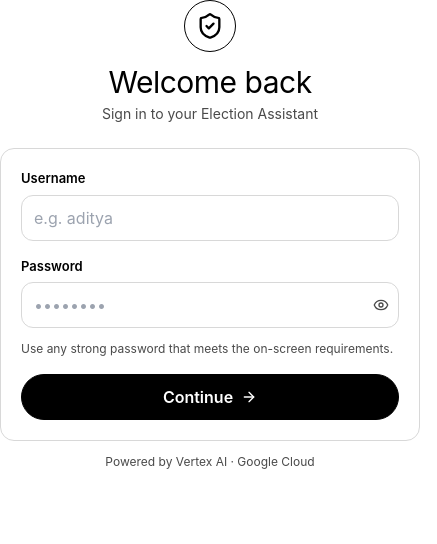
Scenario: Login Component › rejects empty username
What coordinates should you click on to do the following:
click the button "Continue"
I would click on:
 (210, 397)
Its box is [21,374,399,420].
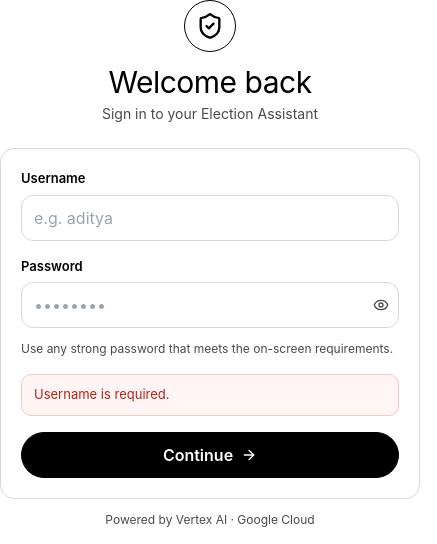
Result: the text "Username is required." is shown at [34,386,170,402]
